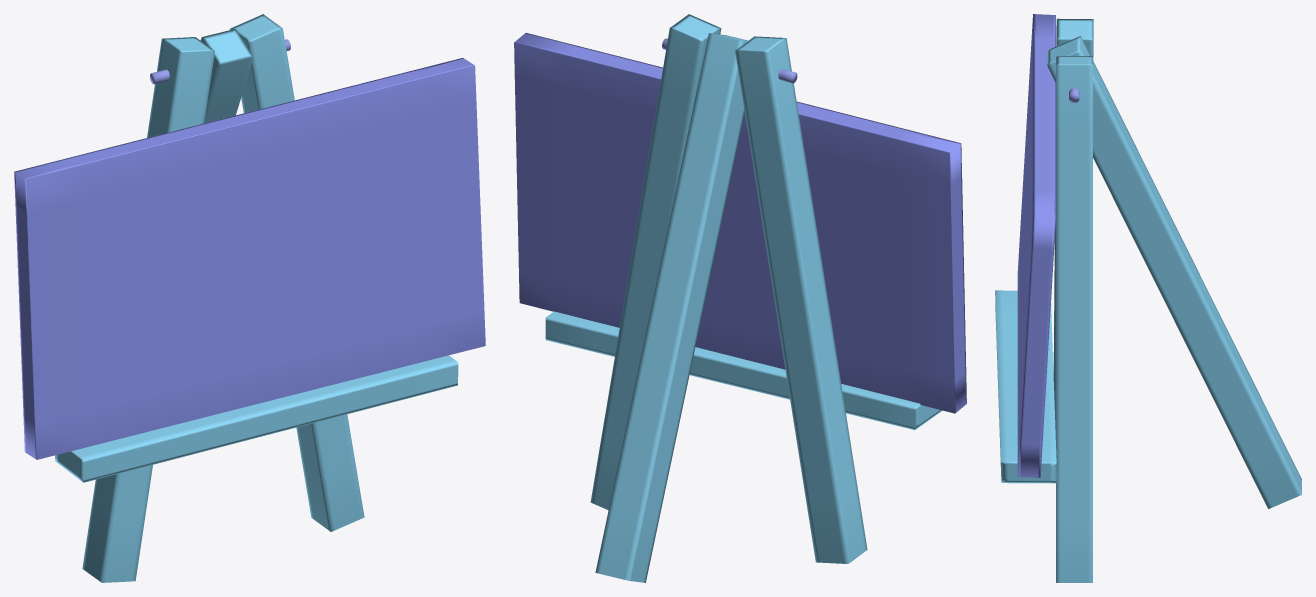
Rendered from Canvas v1.01.fbx.
The picture shows the model from 3 angles, left to right: view 1: azimuth 30°, elevation 25°; view 2: azimuth 150°, elevation 25°; view 3: azimuth 270°, elevation 25°; orthographic projection. The views are drawn at different scales.
Parts seen in each view (by area): view 1: Merged_PM3D_Cube3D_1; view 2: Merged_PM3D_Cube3D_1; view 3: Merged_PM3D_Cube3D_1.
Part boxes in pixels (<box>): Merged_PM3D_Cube3D_1: <box>14,14,485,582</box>; Merged_PM3D_Cube3D_1: <box>514,14,966,582</box>; Merged_PM3D_Cube3D_1: <box>995,14,1301,582</box>.
Bounding box in the file's own units: 13.84 × 15.11 × 8.64.
